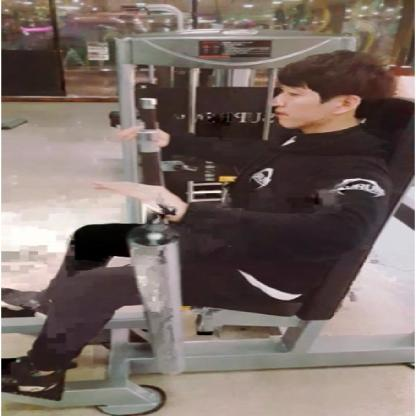Chest Press machine: (6, 25, 414, 416)
